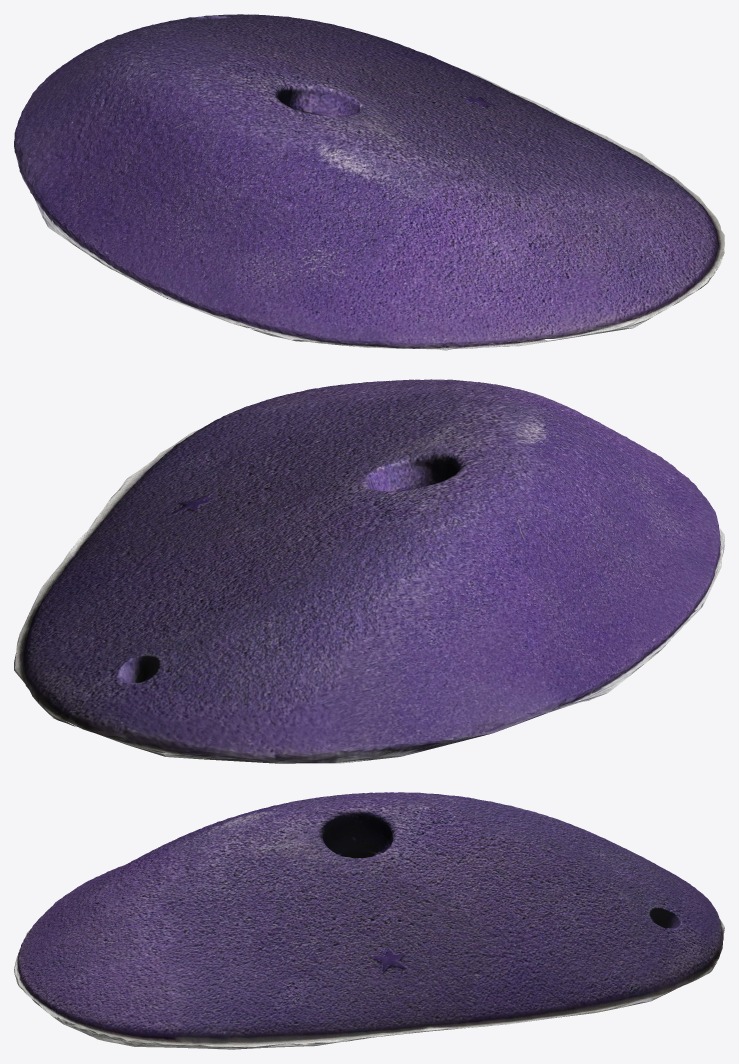
File: Teknik_NoShadowHands_1_5_num3.glb
3 renders of one model, top to bottom at view 1: azimuth 30°, elevation 25°; view 2: azimuth 150°, elevation 25°; view 3: azimuth 270°, elevation 25°, orthographic. The views are drawn at different scales.
Size of the model in its own units: 0.6713 by 0.1557 by 0.9239.
1 material, 1 textured.
